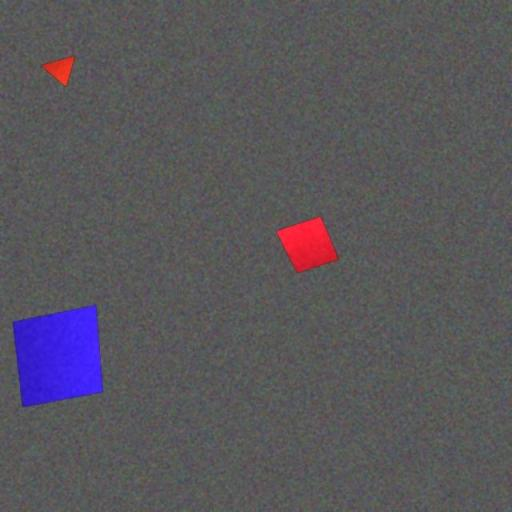BLUE_SQUARE: (12, 305, 104, 408)
RED_SQUARE: (275, 215, 340, 274)
